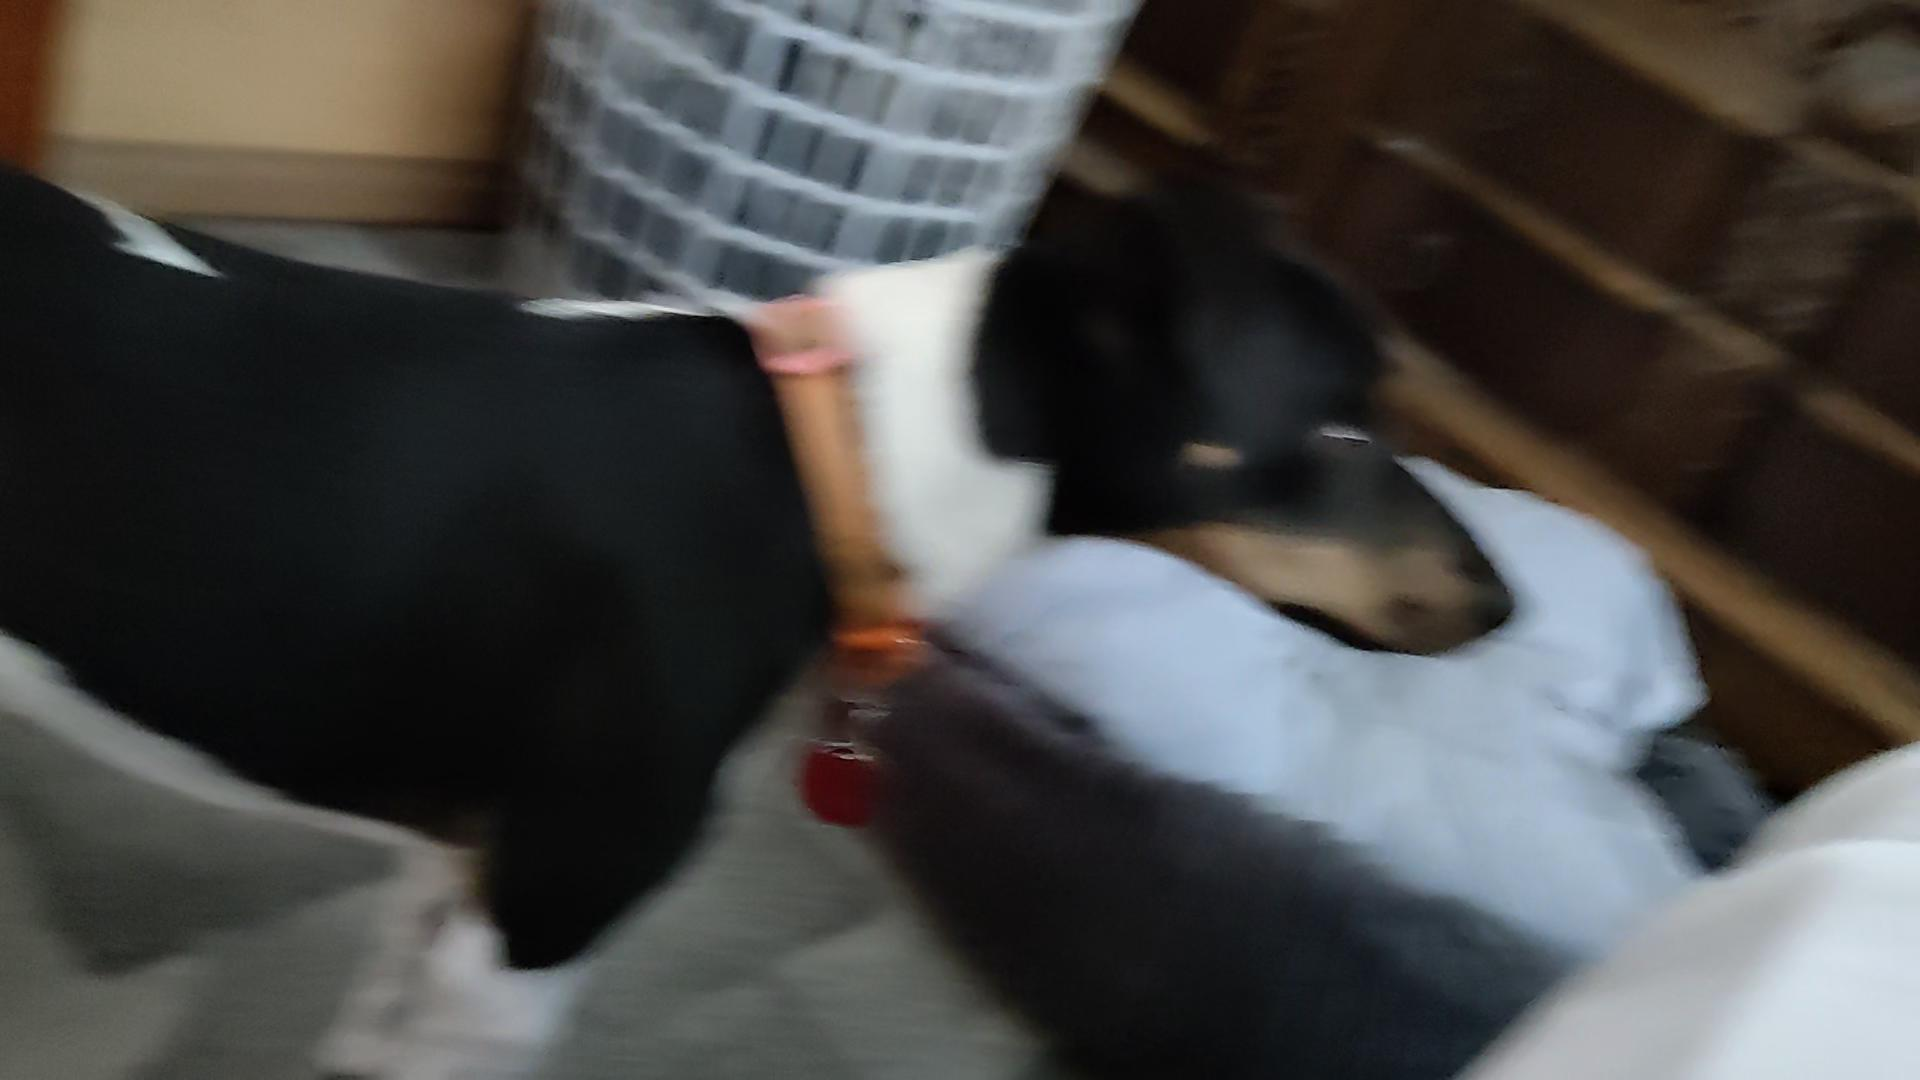Dog: (0, 127, 1535, 1079)
